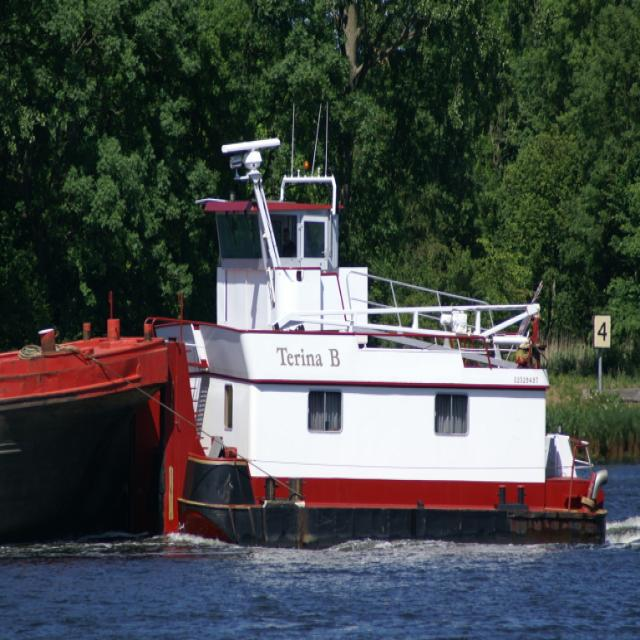tugboat: (101, 133, 617, 563)
